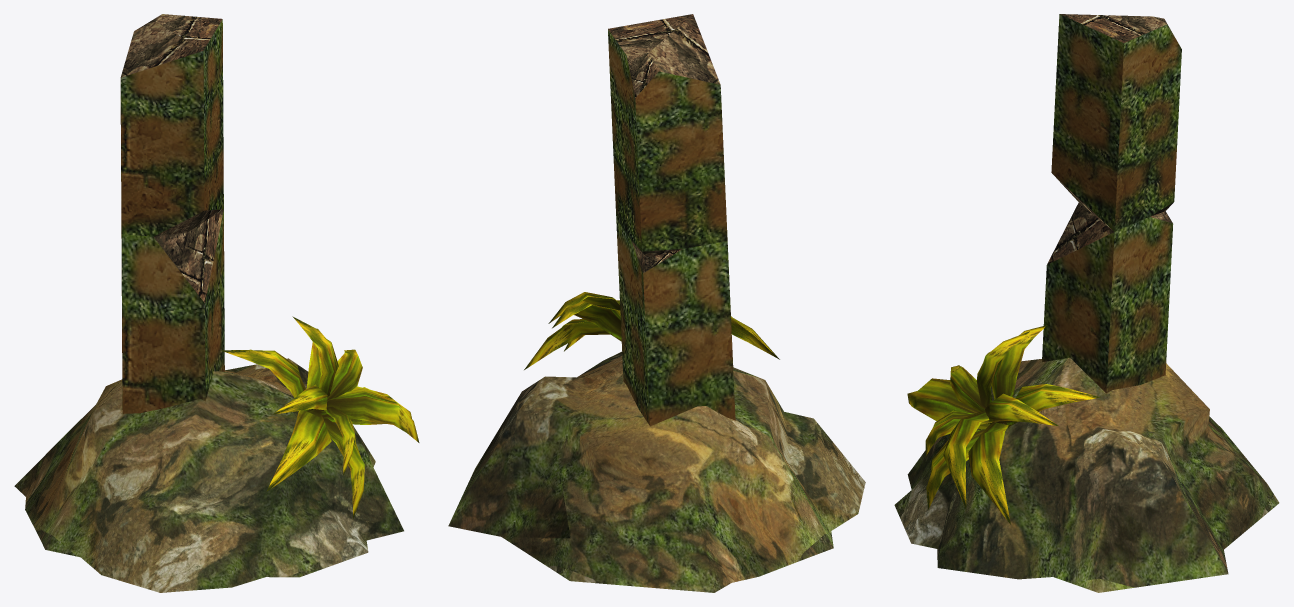
File: Ruins02.FBX
The picture shows the model from 3 angles, left to right: view 1: azimuth 30°, elevation 25°; view 2: azimuth 150°, elevation 25°; view 3: azimuth 270°, elevation 25°; orthographic projection. The views are drawn at different scales.
Parts seen in each view (by area): view 1: Rock, Pillar, Weeds; view 2: Rock, Pillar, Weeds; view 3: Rock, Pillar, Weeds.
Boxes of the visible parts, bbox=[...] form: Rock: bbox=[14, 358, 403, 592]; Pillar: bbox=[120, 14, 224, 413]; Weeds: bbox=[221, 316, 419, 518]; Rock: bbox=[448, 351, 865, 592]; Pillar: bbox=[608, 14, 735, 426]; Weeds: bbox=[524, 292, 779, 369]; Rock: bbox=[894, 358, 1279, 592]; Pillar: bbox=[1042, 14, 1181, 393]; Weeds: bbox=[907, 325, 1100, 524].
Bounding box in the file's own units: 556 × 741 × 535.
